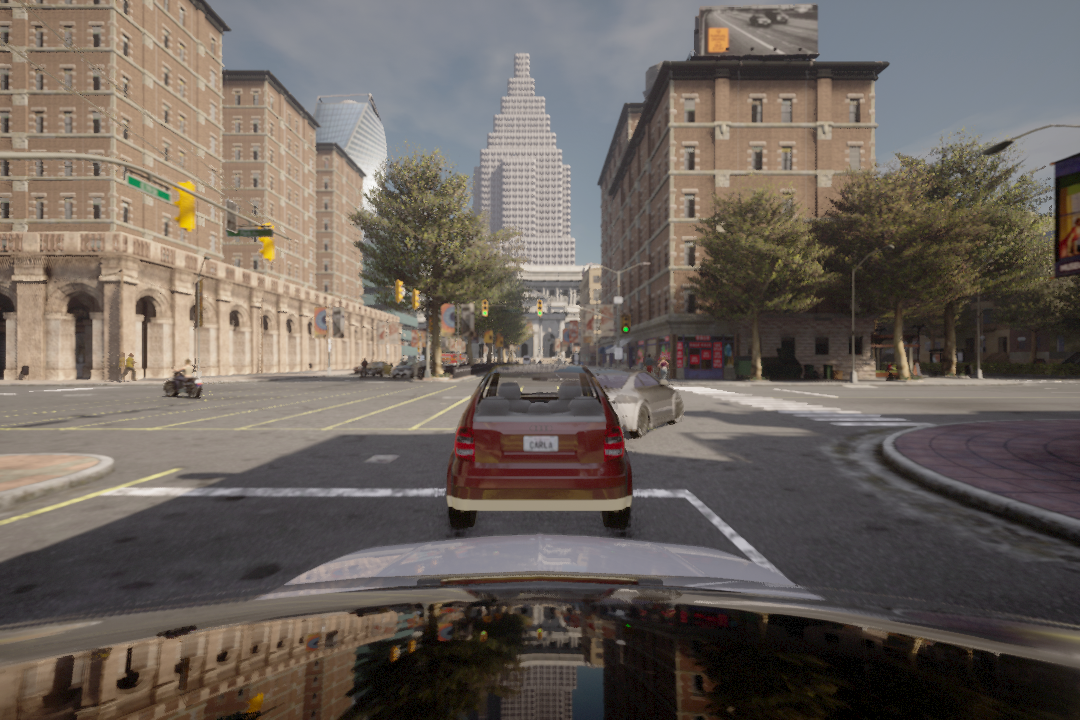TrafficLight: (618, 315, 631, 337), (481, 299, 491, 318), (535, 300, 544, 318)
